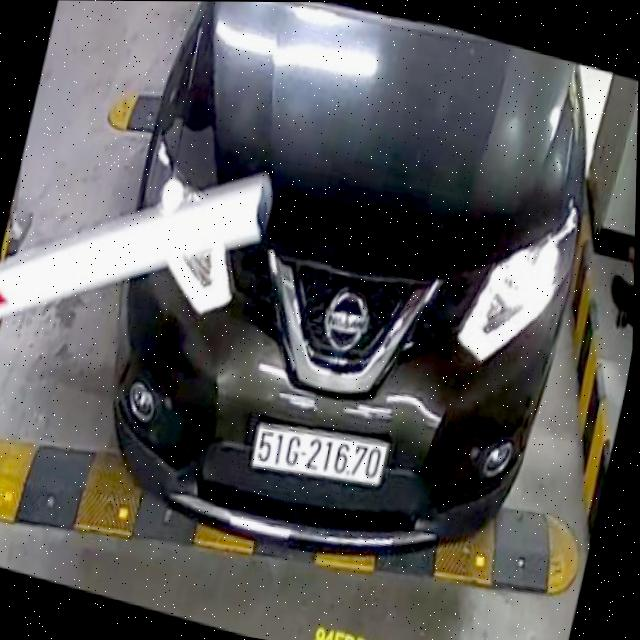car: (73, 1, 626, 592)
plate: (241, 417, 395, 493)
